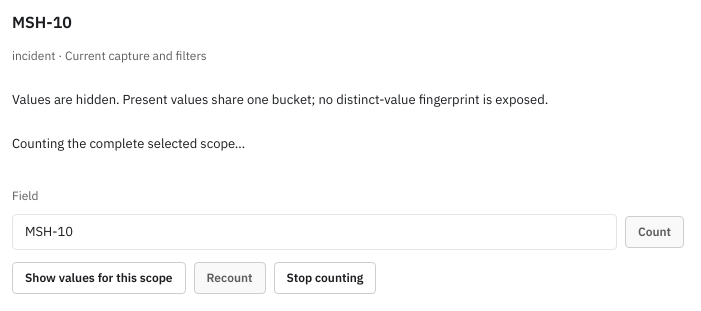
Test case: Stop counting cancels the local count owner and returns no partial distribution
This screenshot has width=701, height=311.
Click the button "Stop counting": click(325, 278) [274, 262, 376, 294]
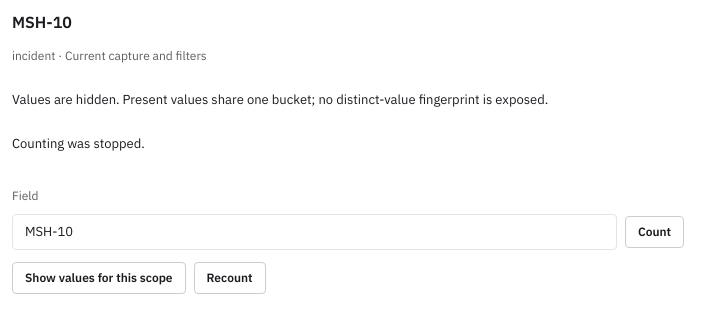
Check: the message "Counting was stopped." is shown, box [12, 135, 145, 152]
